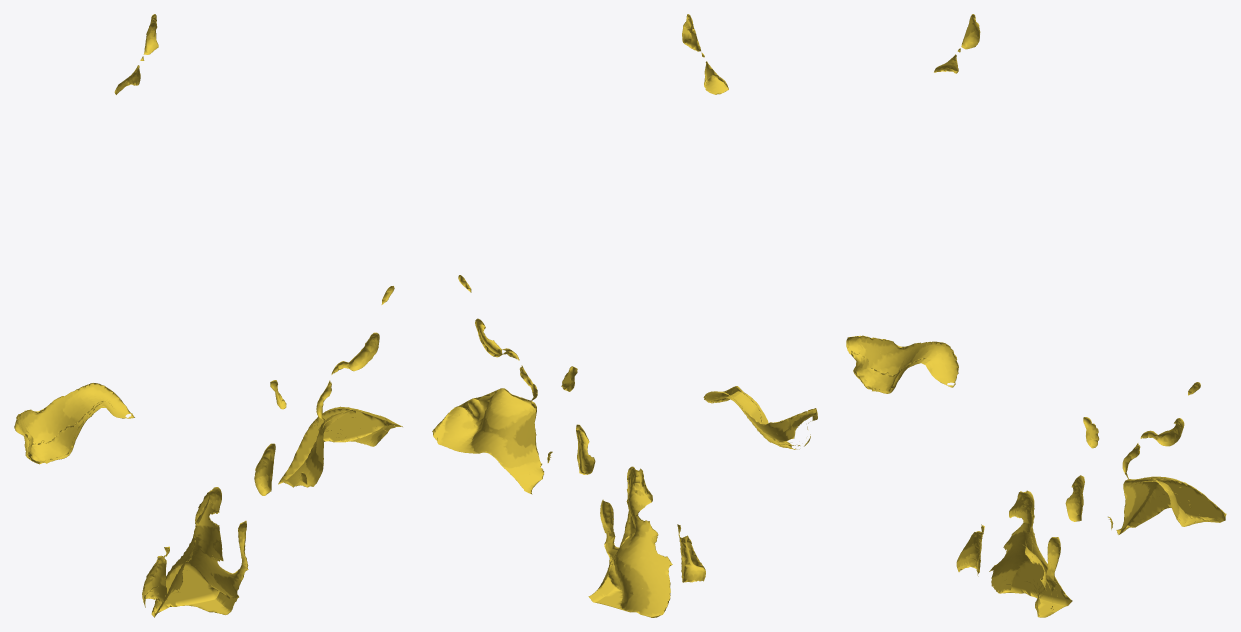
The picture shows the model from 3 angles, left to right: view 1: azimuth 30°, elevation 25°; view 2: azimuth 150°, elevation 25°; view 3: azimuth 330°, elevation 25°; orthographic projection. The views are drawn at different scales.
Parts seen in each view (by area): view 1: Switch_Switch_osgPicked_gmeGeoEntityGeode_Geometry_Geometry_ (×5), Switch_Switch_osgPicked_gmeGeoEntityGeode_Geometry_0; view 2: Switch_Switch_osgPicked_gmeGeoEntityGeode_Geometry_Geometry_ (×5), Switch_Switch_osgPicked_gmeGeoEntityGeode_Geometry_0; view 3: Switch_Switch_osgPicked_gmeGeoEntityGeode_Geometry_Geometry_ (×5), Switch_Switch_osgPicked_gmeGeoEntityGeode_Geometry_0.
Boxes of the visible parts, x1=… form: Switch_Switch_osgPicked_gmeGeoEntityGeode_Geometry_Geometry_ (×5): x1=142, y1=332, x2=402, y2=617; Switch_Switch_osgPicked_gmeGeoEntityGeode_Geometry_0: x1=14, y1=383, x2=134, y2=464; Switch_Switch_osgPicked_gmeGeoEntityGeode_Geometry_Geometry_ (×5): x1=432, y1=318, x2=705, y2=617; Switch_Switch_osgPicked_gmeGeoEntityGeode_Geometry_0: x1=703, y1=386, x2=817, y2=449; Switch_Switch_osgPicked_gmeGeoEntityGeode_Geometry_Geometry_ (×5): x1=956, y1=418, x2=1226, y2=617; Switch_Switch_osgPicked_gmeGeoEntityGeode_Geometry_0: x1=846, y1=335, x2=958, y2=393.
Size of what is drawn, in the model's own units: 36276 by 55638 by 4226.
